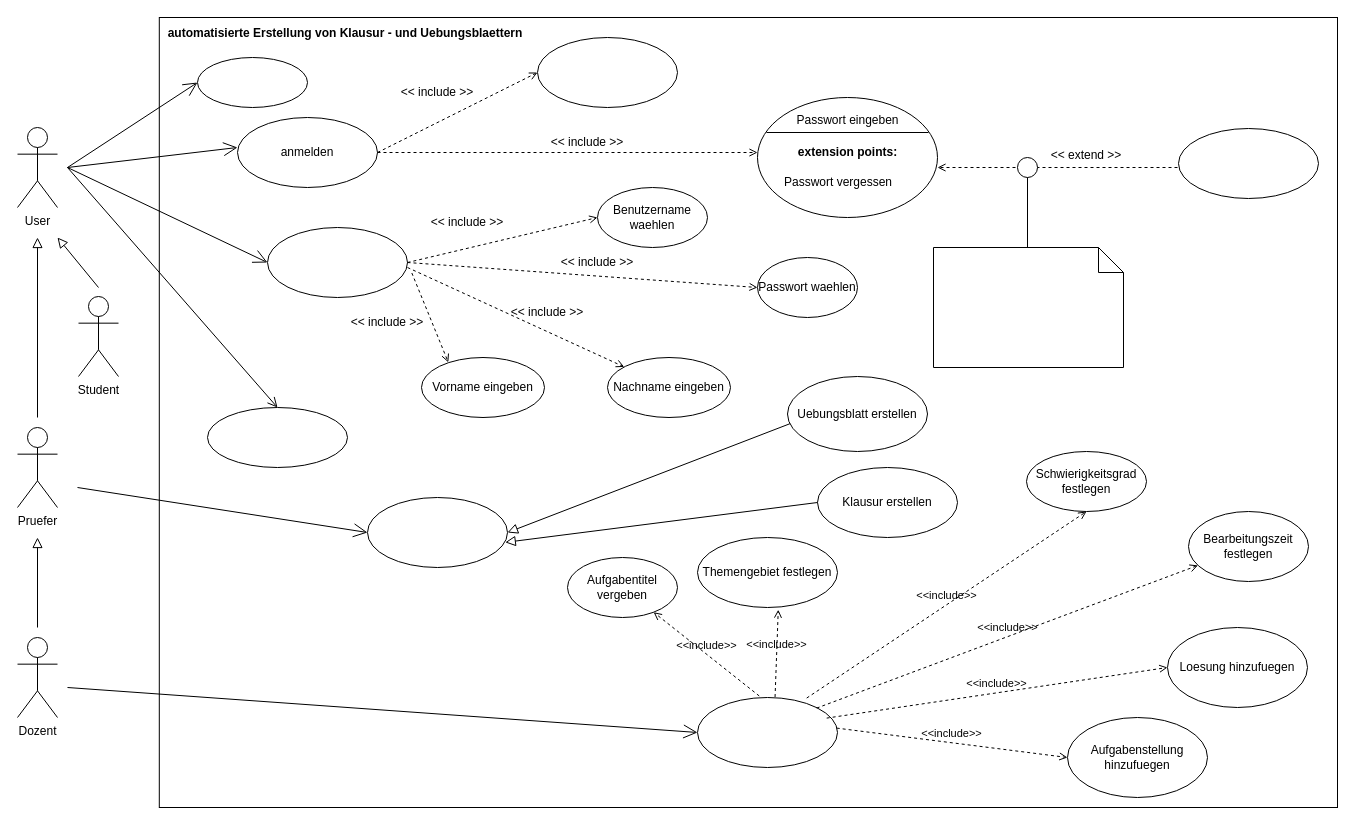
The diagram is 1355 pixels wide and 825 high, and some of its shapes have lost their labels. The shapes that lost their labels are listed below. From the top down, each one's centre as x and y in pixels, then its label:
At (x=252, y=82): "Nutzerprofil editieren".
At (x=607, y=72): "Benutzername eingeben".
At (x=1248, y=163): "Passwort neu setzen".
At (x=337, y=262): "registrieren".
At (x=1028, y=307): "condition : {Passwort neu setzen Button} extension points : Passwort vergessen".
At (x=277, y=437): "Testklausur erzeugen".
At (x=437, y=532): "Aufgabenauswahl erstellen".
At (x=767, y=732): "Aufgabe hinzufuegen".
